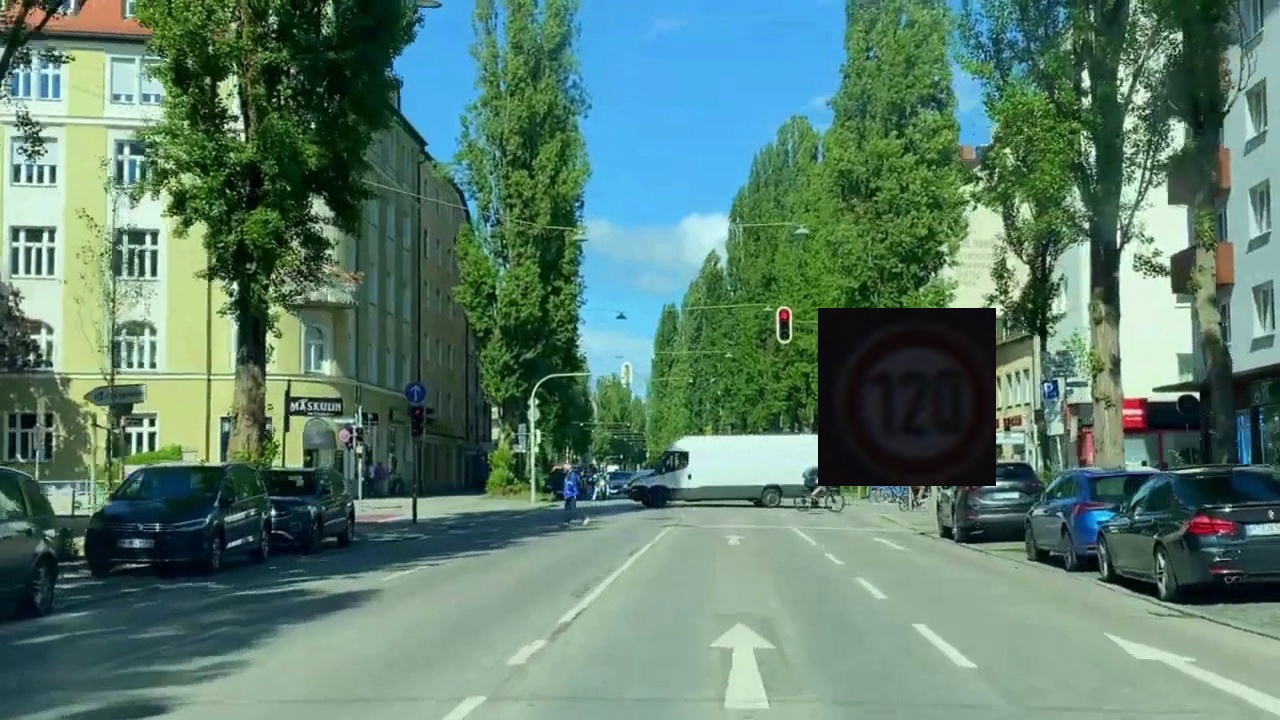Speed 120: (818, 308, 996, 486)
